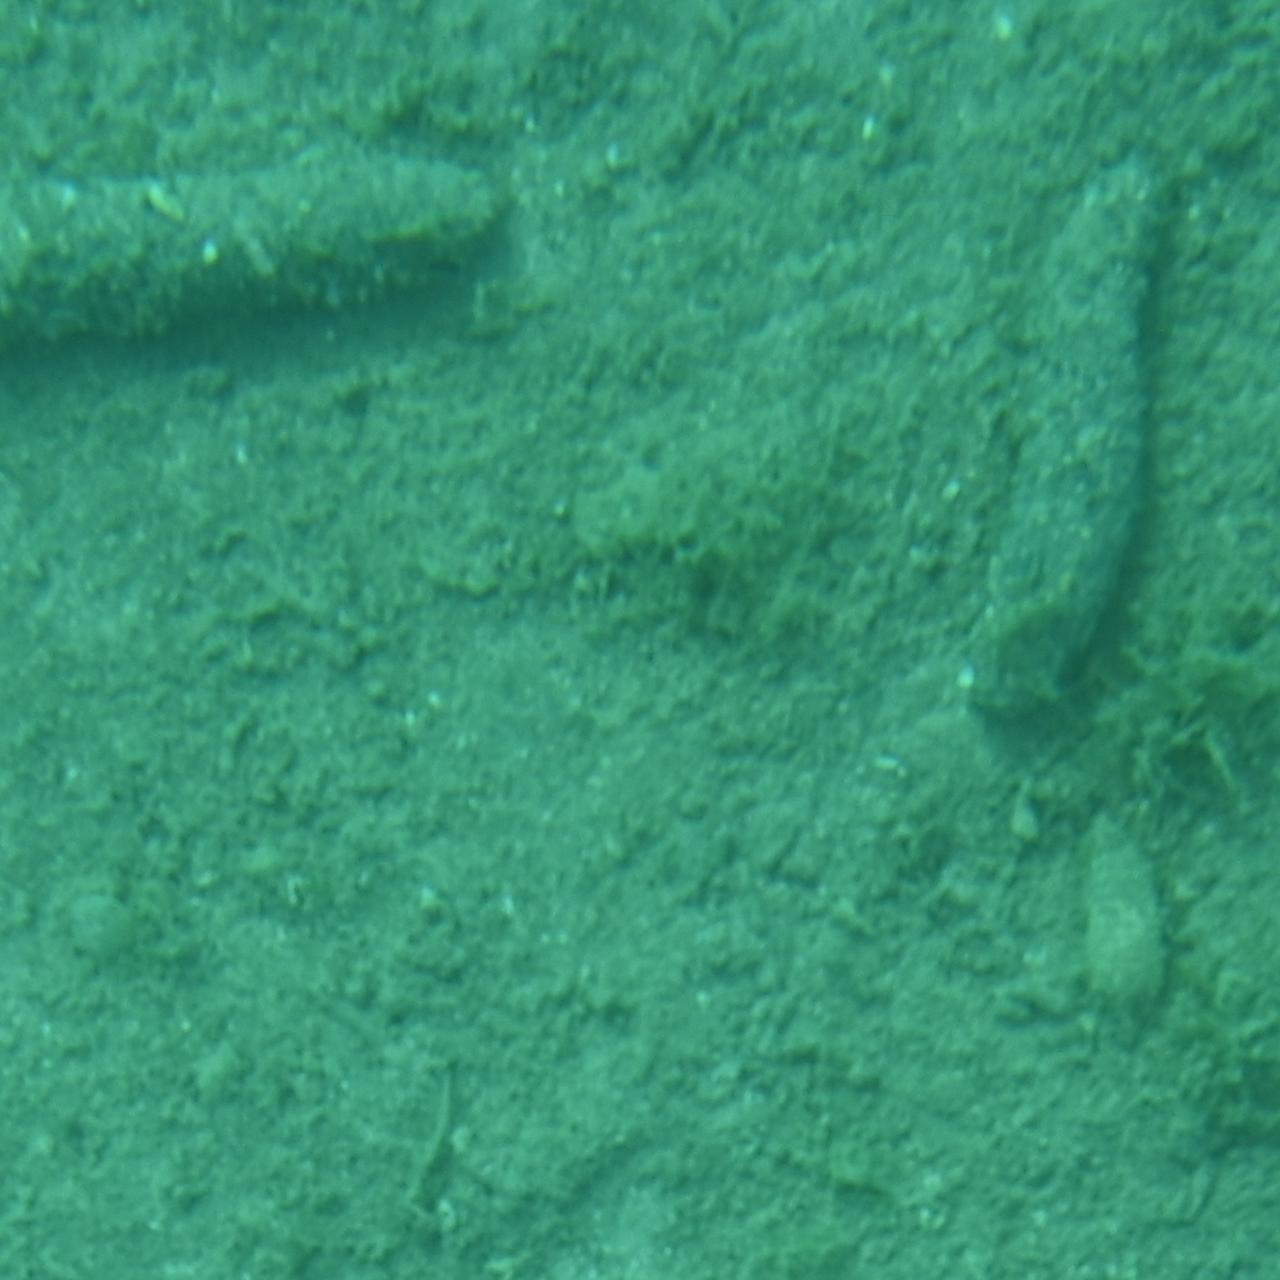Holothuria tubulosa: (964, 139, 1176, 740), (0, 147, 505, 394)
